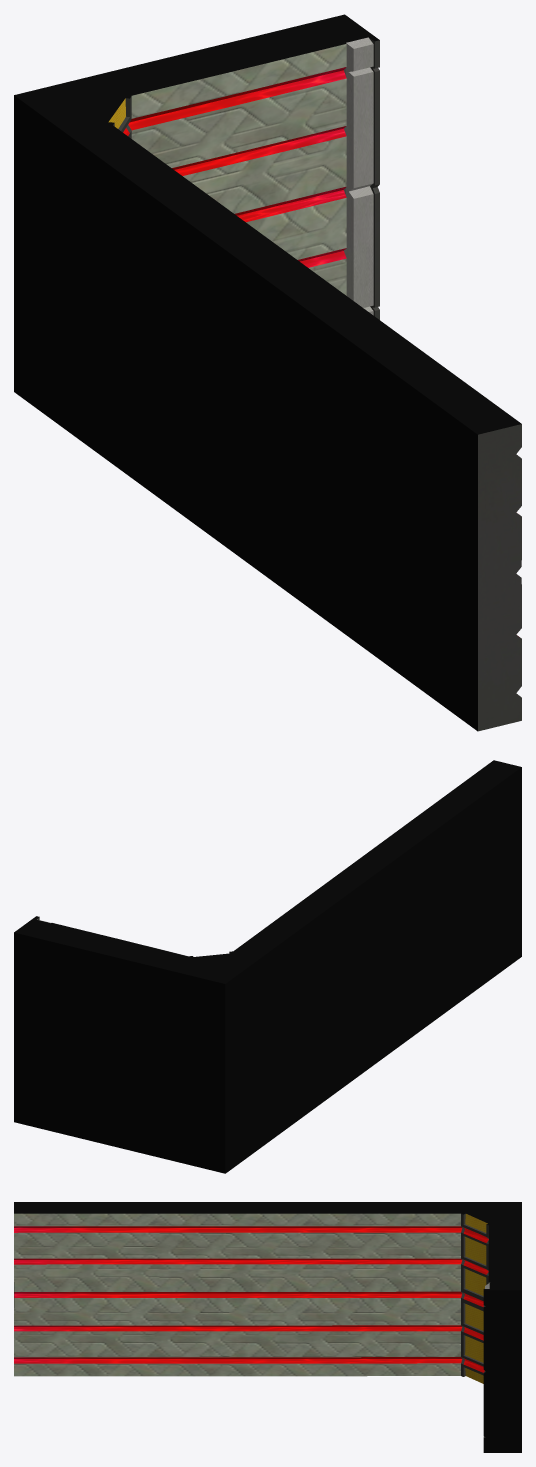
File: Wall.fbx
3 views of the same model, one above another, from view 1: azimuth 30°, elevation 25°; view 2: azimuth 150°, elevation 25°; view 3: azimuth 270°, elevation 25° (orthographic). The views are drawn at different scales.
Parts seen in each view (by area): view 1: Wall; view 2: Wall; view 3: Wall.
Boxes of the visible parts, box(x1,y1,x2,y2) form: Wall: box(14, 14, 521, 731); Wall: box(14, 760, 521, 1173); Wall: box(14, 1202, 521, 1452).
Bounding box in the file's own units: 7 × 6 × 17.
Materials: 1 (1 with a texture image).
